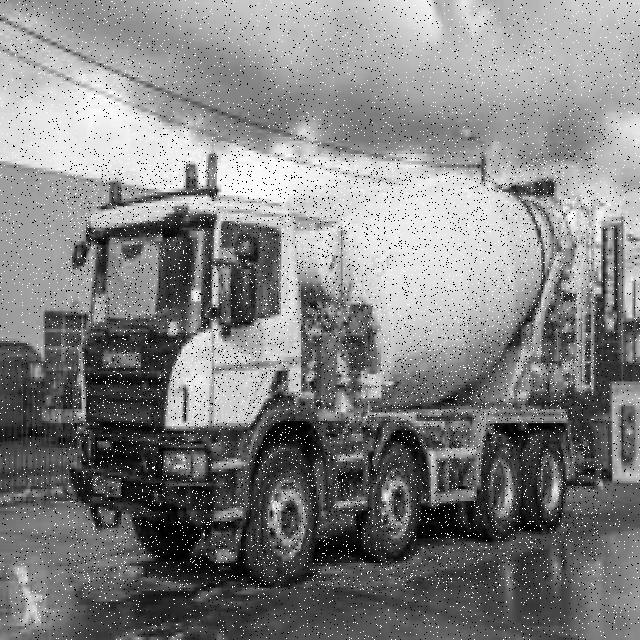Concrete Mixer: (66, 153, 599, 590)
